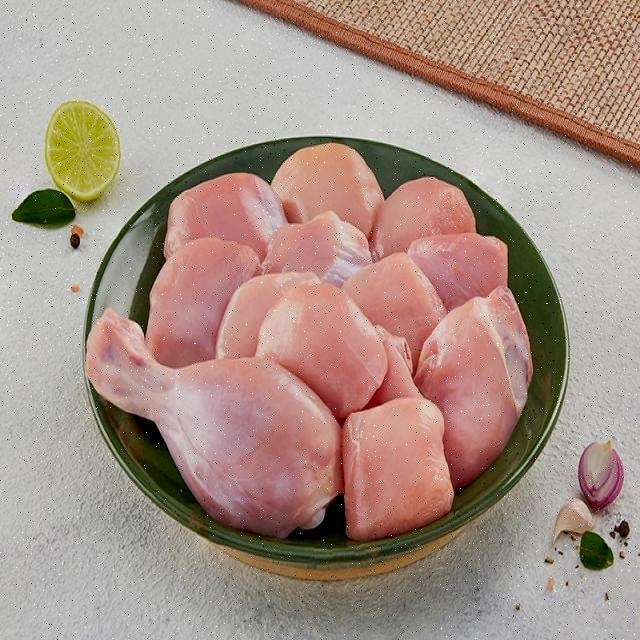Chicken: (150, 220, 488, 508)
